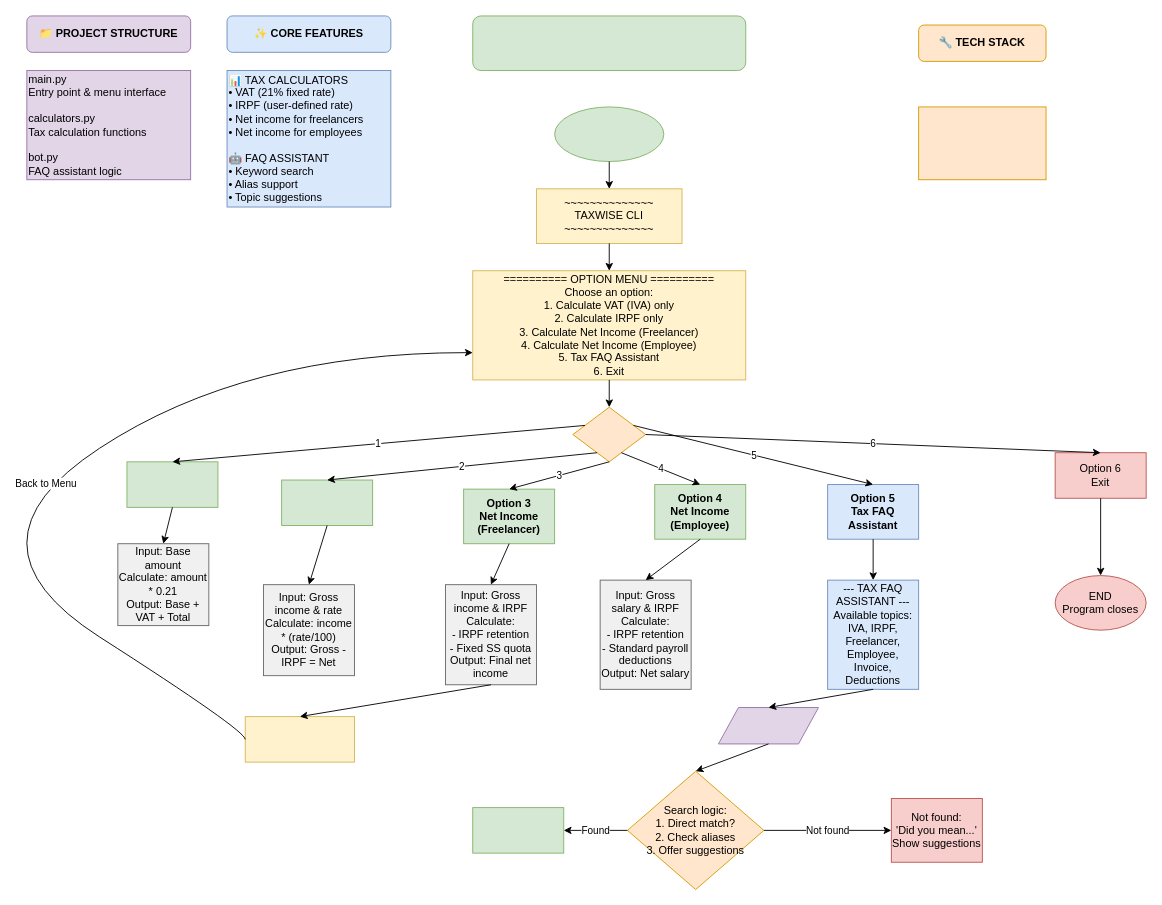
Image size: 1162x905. Some labels were removed from this diagram. The shapes that lost their labels are listed below. From the top down, each one's box as (x1, y1, x2, y2) in pixels, then its label:
(472, 15, 746, 71): 💼 TAXWISE CLI Command-line tax assistant for Spain
(554, 106, 664, 162): START python main.py
(918, 106, 1046, 180): Python 3.x Pure CLI No external dependencies Modular structure
(572, 406, 646, 462): Option (1-6)?
(126, 461, 218, 507): Option 1 Calculate VAT
(281, 479, 373, 526): Option 2 Calculate IRPF
(244, 716, 354, 762): Press Enter to return to menu...
(718, 707, 819, 744): User inputs keyword/topic
(472, 807, 564, 853): Found: Return explanation
